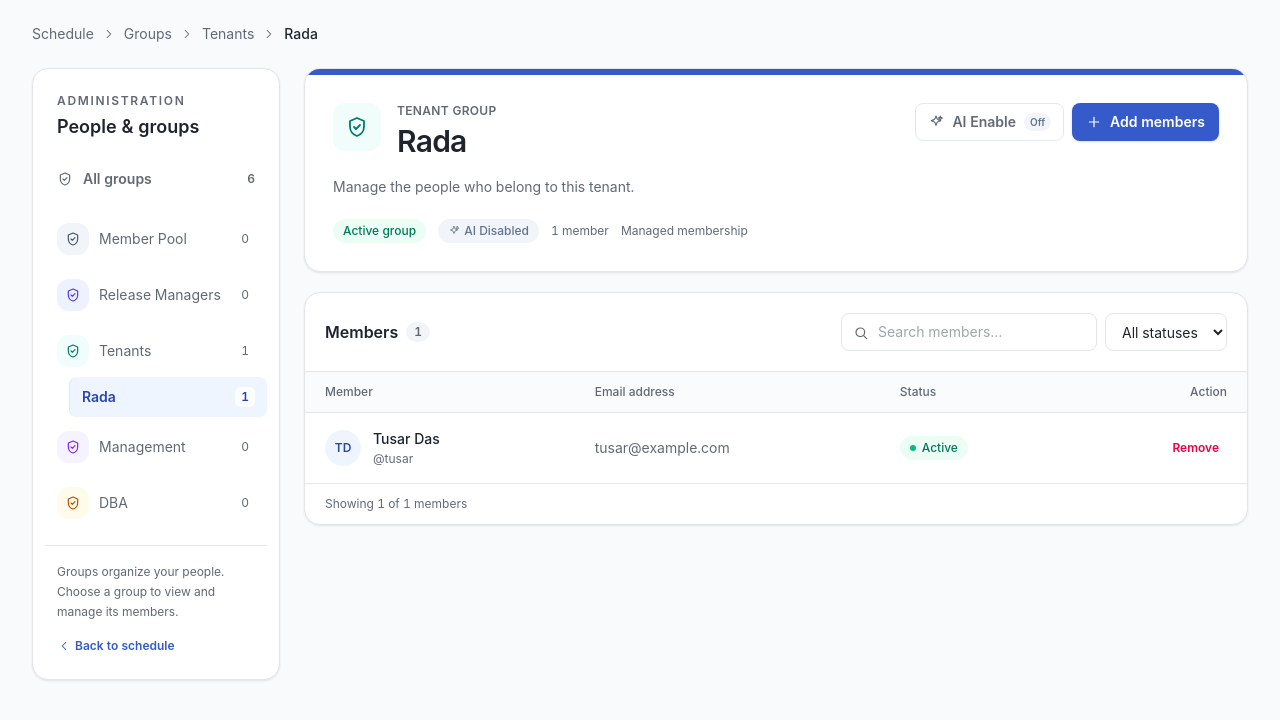
Test: excludes existing members even when the member table is filtered
Expected: the text "Tusar Das" is shown, [373, 429, 440, 449]
Type "nobody" into the field labelled "Search members" at (969, 332), box [841, 313, 1097, 351]
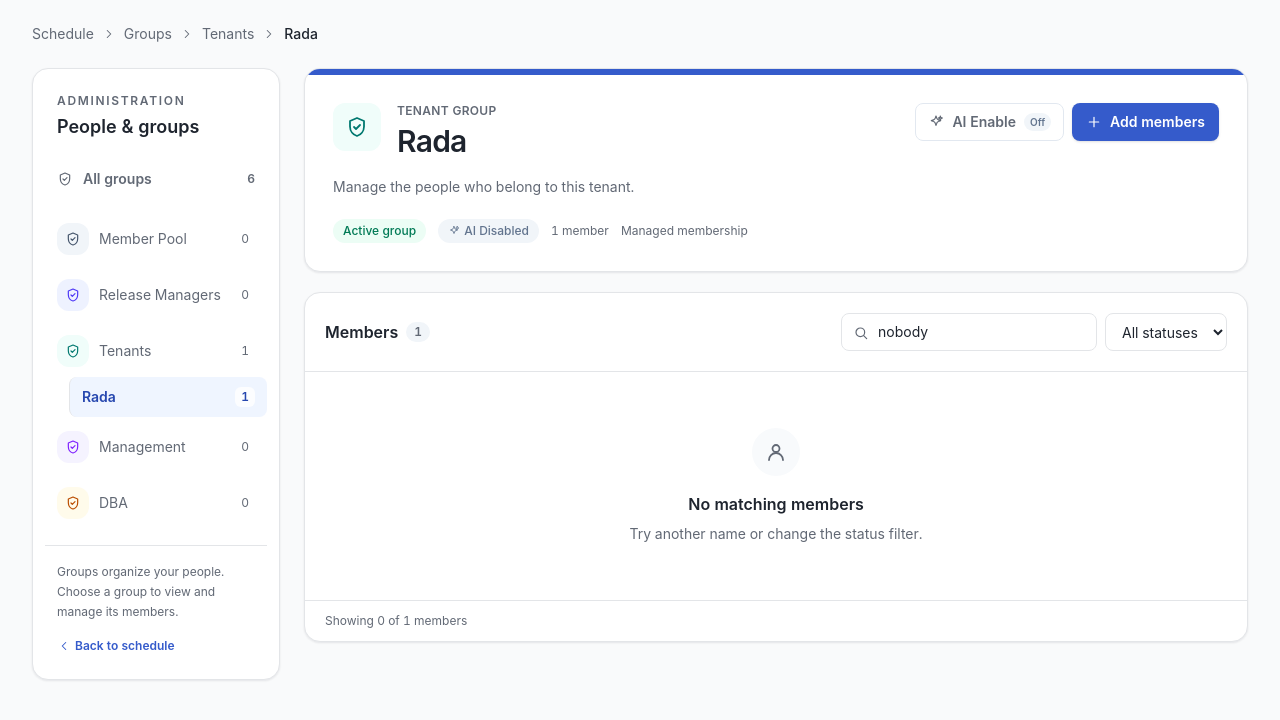
Click the button "Add members" at (1146, 122), box [1072, 103, 1219, 141]
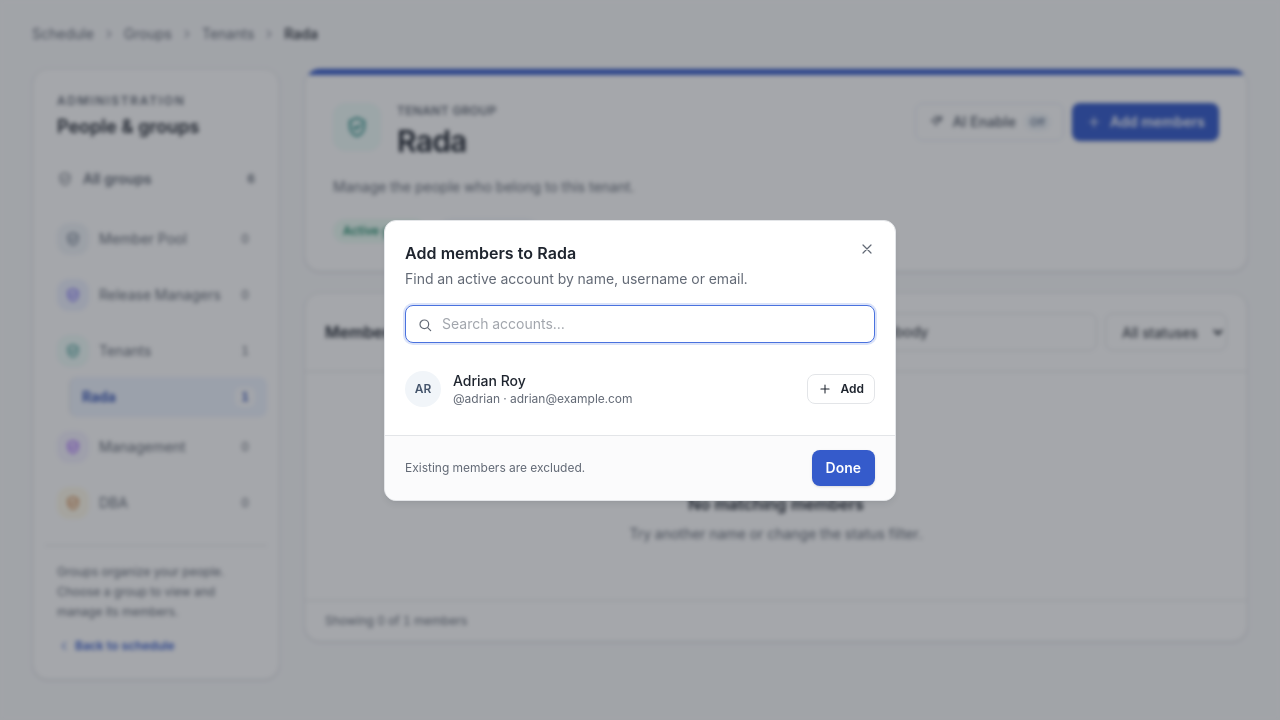
Expected: the number of buttons "Add " is 1
Click the button "Add " at (841, 388), box [808, 374, 875, 404]
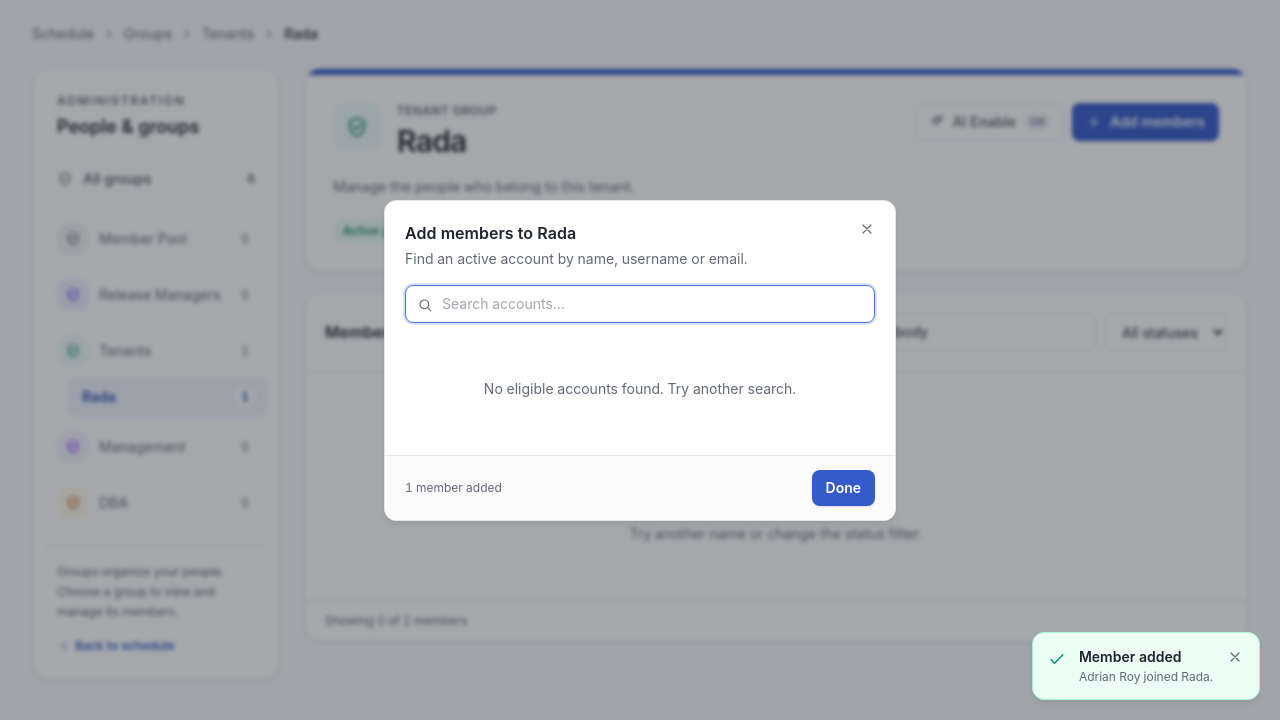
Expected: the text "1 member added" is shown, [405, 480, 502, 496]
